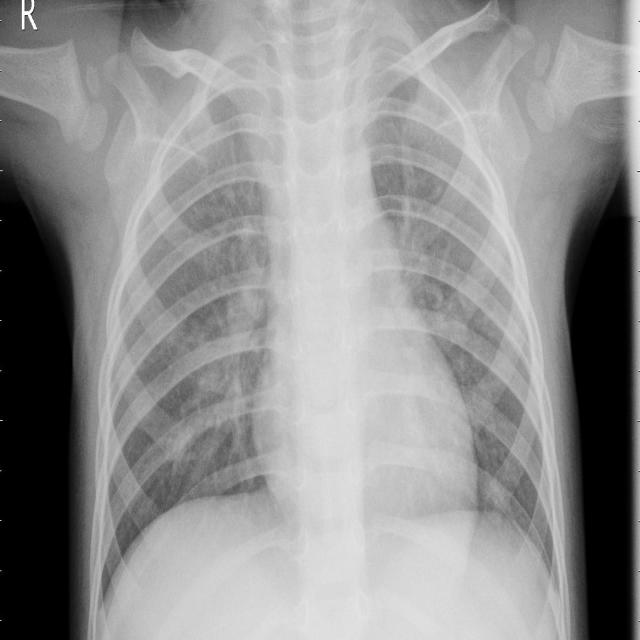low-pneumonia: (155, 199, 273, 462), (394, 201, 477, 368)
